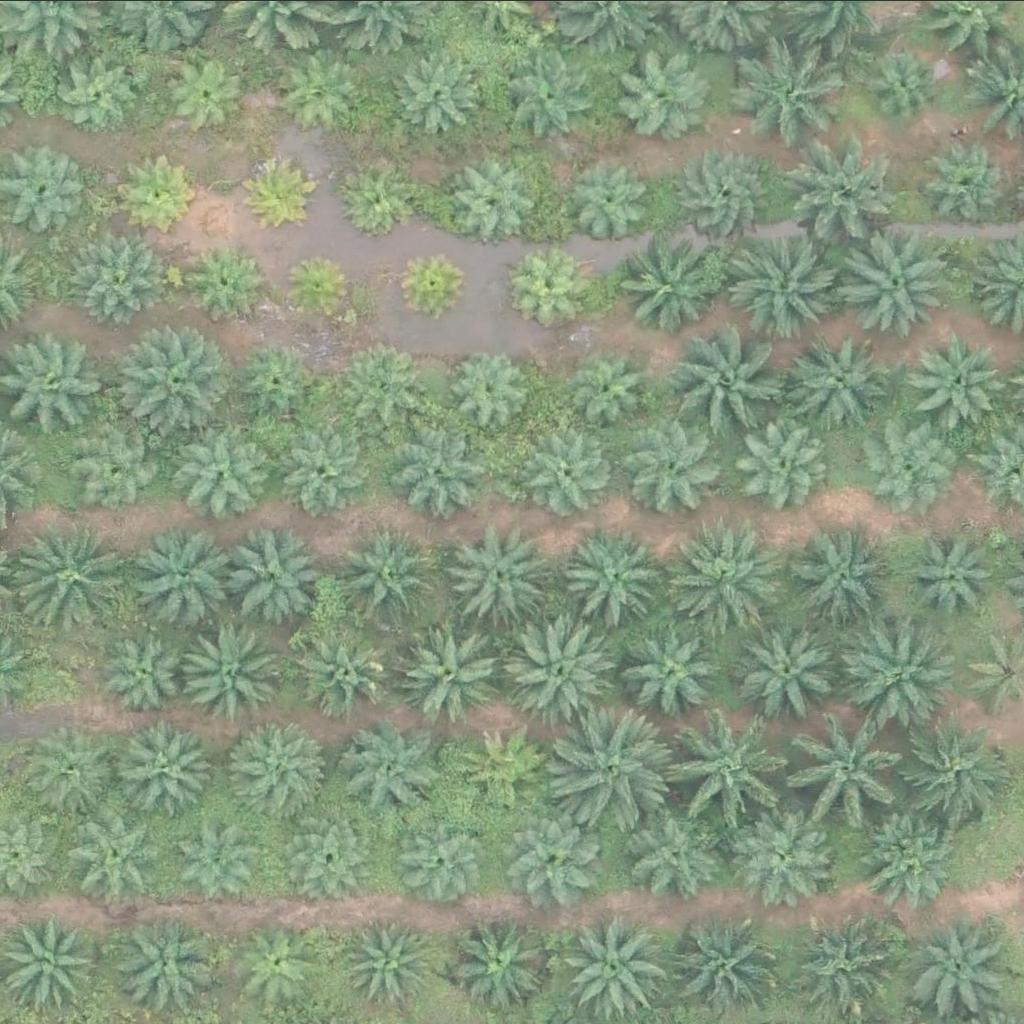Kelapa_Sawit: (836, 231, 950, 344), (566, 522, 679, 635), (675, 521, 788, 634), (732, 611, 845, 724), (117, 323, 230, 436), (21, 524, 134, 637), (558, 712, 671, 825), (732, 229, 846, 341), (777, 135, 890, 247), (671, 331, 784, 443), (510, 611, 623, 723), (848, 614, 961, 726), (683, 711, 796, 823), (801, 711, 914, 823), (899, 716, 1012, 828), (744, 50, 845, 150), (620, 237, 721, 337), (788, 334, 889, 434), (625, 413, 726, 513), (445, 524, 546, 624), (625, 617, 726, 717), (735, 800, 836, 900), (854, 813, 955, 913), (799, 917, 900, 1017), (137, 528, 238, 628), (220, 523, 321, 623), (393, 623, 494, 723), (337, 524, 438, 624), (389, 417, 490, 517), (185, 621, 286, 721), (222, 717, 323, 817), (113, 912, 214, 1012), (610, 43, 710, 143), (678, 145, 778, 245), (628, 796, 728, 896), (452, 912, 552, 1012), (681, 915, 781, 1015), (913, 915, 1013, 1015), (340, 716, 440, 816), (68, 800, 168, 900), (793, 524, 894, 623), (396, 820, 485, 908), (861, 41, 949, 129), (452, 160, 540, 248), (921, 334, 1009, 422), (524, 434, 612, 522), (232, 338, 320, 426), (350, 338, 438, 426), (160, 52, 248, 140), (283, 47, 371, 135), (188, 428, 276, 516), (280, 427, 368, 515), (96, 625, 184, 713), (181, 817, 269, 905), (285, 813, 373, 901), (348, 911, 436, 999), (509, 56, 598, 143), (568, 159, 656, 246), (930, 137, 1018, 224), (448, 343, 536, 430), (572, 346, 660, 433), (855, 423, 943, 510), (740, 420, 828, 507), (906, 529, 994, 616), (501, 814, 589, 901), (58, 50, 146, 137), (392, 49, 480, 136), (68, 235, 156, 322), (77, 423, 165, 510), (302, 631, 390, 718), (25, 725, 113, 812), (126, 722, 214, 809), (235, 918, 323, 1005), (462, 723, 550, 810), (338, 166, 414, 241), (518, 249, 594, 324), (391, 244, 467, 319), (242, 151, 318, 226), (184, 241, 259, 316), (281, 249, 356, 324), (120, 151, 195, 226)
